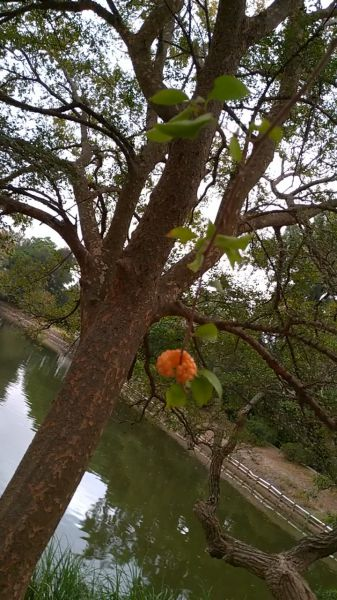eggs: (153, 339, 203, 390)
